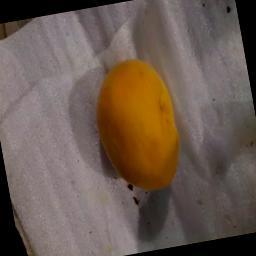Peach Unripe: (68, 41, 206, 205)
